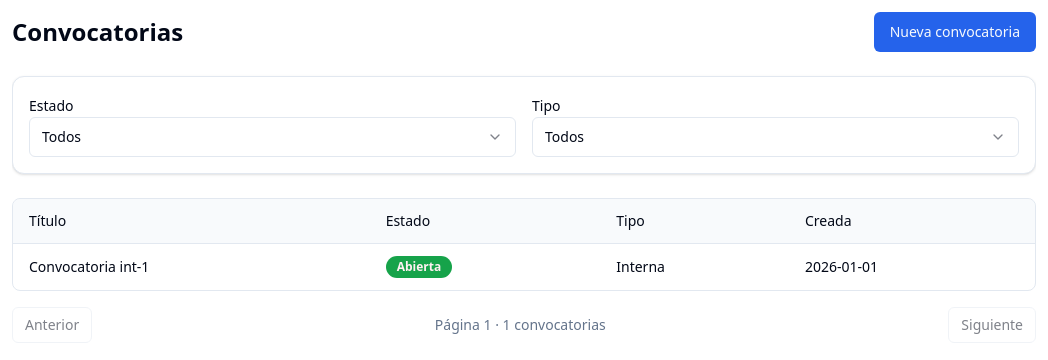
Test: CallList — filter refetch wiring › refetches with ?call_type=external when the type filter is selected
This screenshot has width=1048, height=360.
Expected: the link "Convocatoria int-1" is shown, [29, 257, 149, 276]
Click the dropdown named "tipo".
click(565, 136)  # box [532, 117, 1019, 157]
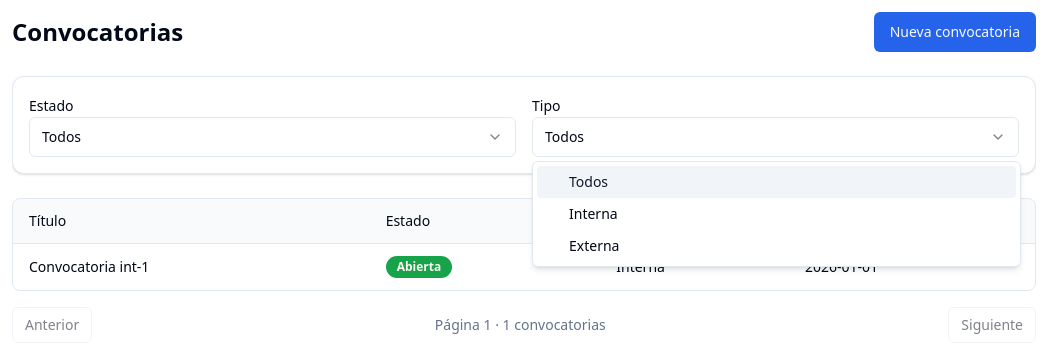
Click the option "Externa".
click(594, 246)  # box [569, 236, 619, 255]
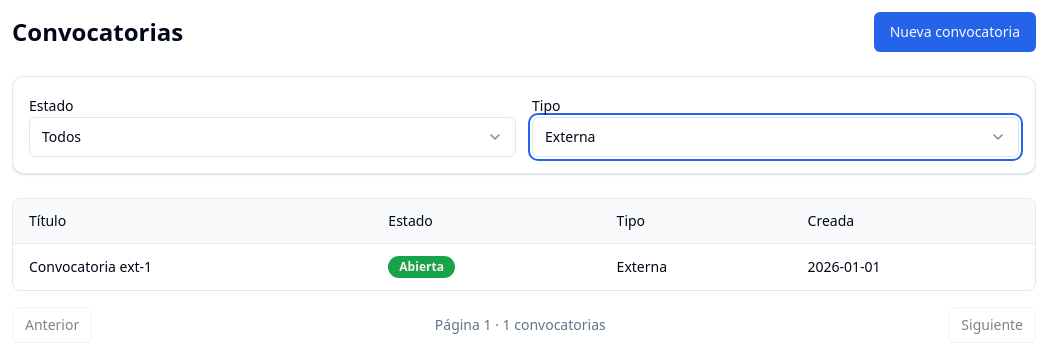
Expected: the link "Convocatoria ext-1" is shown, [29, 257, 152, 276]
